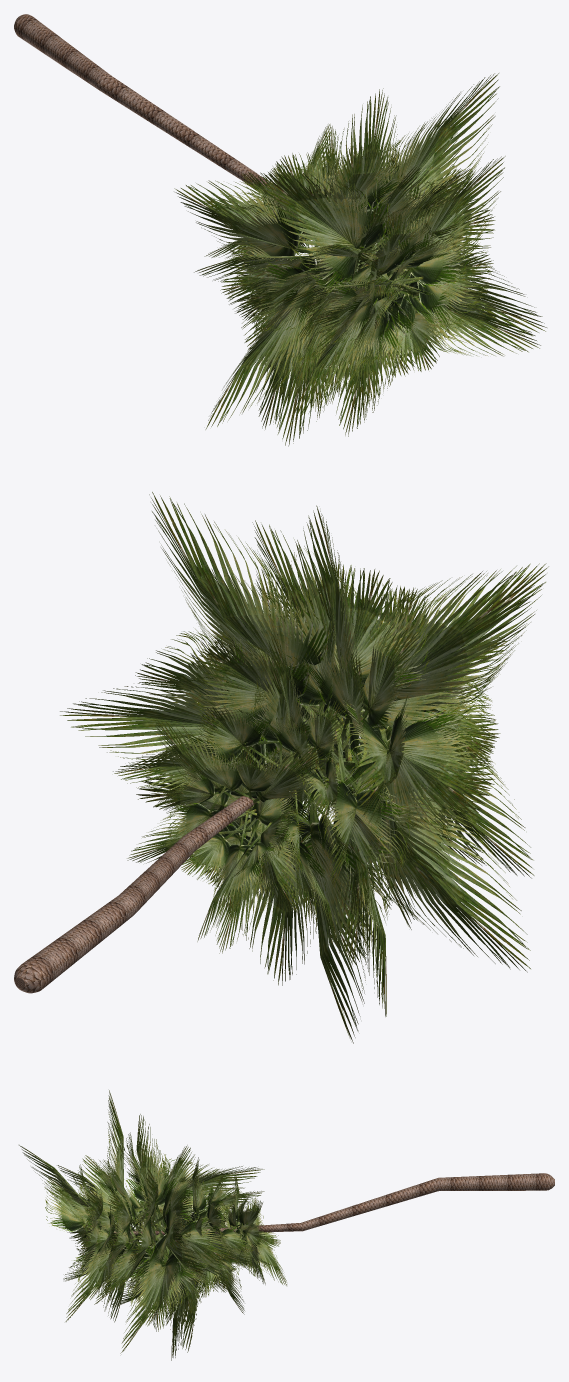
File: PalmTree2.glb
The picture shows the model from 3 angles, top to bottom: view 1: azimuth 30°, elevation 25°; view 2: azimuth 150°, elevation 25°; view 3: azimuth 270°, elevation 25°; orthographic projection. The views are drawn at different scales.
Parts seen in each view (by area): view 1: Leaf3.047, Palm.001, Leaf3.048, Leaf3.046, Leaf3.064, Leaf3.039, Leaf3.063, Leaf3.038, Leaf.063, Leaf3.061, Leaf4.062, Leaf3.060 (+35 smaller); view 2: Leaf3.047, Leaf3.046, Palm.001, Leaf3.048, Leaf4.045, Leaf3.037, Leaf3.045, Leaf3.038, Leaf.037, Leaf2.047, Leaf4.047, Leaf2.045 (+46 smaller); view 3: Palm.001, Leaf4.036, Leaf4.048, Leaf3.049, Leaf4.037, Leaf3.039, Leaf4.061, Leaf.037, Leaf3.047, Leaf2.036, Leaf.038, Leaf2.048 (+35 smaller).
Boxes of the visible parts, x1,y1,x2,y2 form: Leaf3.047: (261, 172, 400, 295); Palm.001: (14, 14, 389, 279); Leaf3.048: (372, 73, 499, 208); Leaf3.046: (205, 284, 325, 429); Leaf3.064: (398, 264, 540, 356); Leaf3.039: (174, 180, 322, 268); Leaf3.063: (394, 156, 505, 285); Leaf3.038: (309, 88, 400, 219); Leaf.063: (405, 230, 493, 330); Leaf3.061: (291, 269, 403, 420); Leaf4.062: (384, 188, 472, 312); Leaf3.060: (325, 300, 416, 436); Leaf3.047: (339, 571, 535, 727); Leaf3.046: (327, 753, 530, 972); Palm.001: (14, 731, 336, 993); Leaf3.048: (149, 492, 336, 742); Leaf4.045: (342, 708, 486, 834); Leaf3.037: (60, 675, 263, 780); Leaf3.045: (308, 748, 370, 1043); Leaf3.038: (279, 505, 363, 762); Leaf.037: (191, 643, 314, 737); Leaf2.047: (293, 568, 429, 726); Leaf4.047: (195, 564, 342, 733); Leaf2.045: (333, 725, 412, 915); Palm.001: (114, 1173, 554, 1234); Leaf4.036: (154, 1216, 230, 1275); Leaf4.048: (124, 1246, 186, 1326); Leaf3.049: (120, 1242, 166, 1353); Leaf4.037: (137, 1145, 179, 1227); Leaf3.039: (136, 1166, 264, 1214); Leaf4.061: (44, 1177, 90, 1237); Leaf.037: (153, 1176, 192, 1247); Leaf3.047: (107, 1090, 123, 1235); Leaf2.036: (173, 1258, 210, 1314); Leaf.038: (158, 1145, 200, 1223); Leaf2.048: (146, 1195, 182, 1265).
Bounding box in the file's own units: 11.28 × 12.45 × 22.52.
2 materials, 2 textured.
